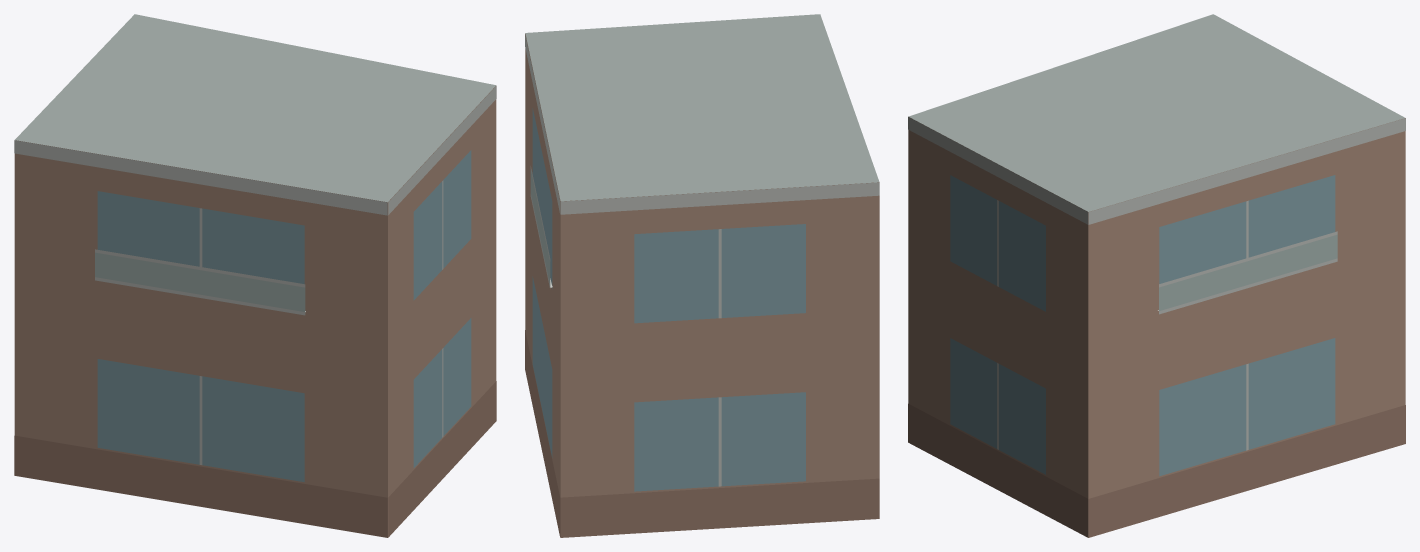
The model's file is survey-upis-32616677.glb.
3 renders of one model, left to right at view 1: azimuth 30°, elevation 25°; view 2: azimuth 150°, elevation 25°; view 3: azimuth 270°, elevation 25°, orthographic. The views are drawn at different scales.
Visible parts, largest first — view 1: survey-upis-32616677.tmp; view 2: survey-upis-32616677.tmp; view 3: survey-upis-32616677.tmp.
Part boxes in pixels (<box>): survey-upis-32616677.tmp: <box>14,14,496,537</box>; survey-upis-32616677.tmp: <box>525,14,879,537</box>; survey-upis-32616677.tmp: <box>908,14,1405,537</box>.
Bounding box in the file's own units: 7.95 × 6.1 × 8.45.
